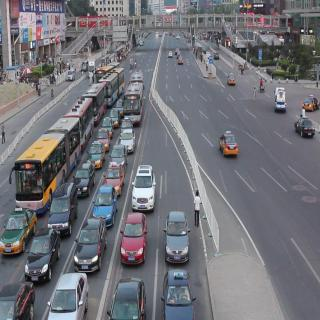BigCar: (21, 116, 70, 192), (69, 87, 95, 137), (104, 57, 125, 96), (86, 71, 104, 113), (130, 72, 141, 117)
Car: (153, 213, 195, 260), (77, 217, 109, 273), (48, 273, 84, 320), (131, 157, 161, 211), (107, 272, 139, 320), (164, 269, 195, 314), (0, 278, 31, 320), (52, 186, 74, 238), (122, 208, 146, 254), (96, 183, 119, 224), (5, 201, 21, 258), (34, 229, 49, 284), (78, 154, 92, 201), (220, 133, 239, 160), (294, 112, 312, 138), (274, 85, 289, 116), (120, 124, 136, 150)
